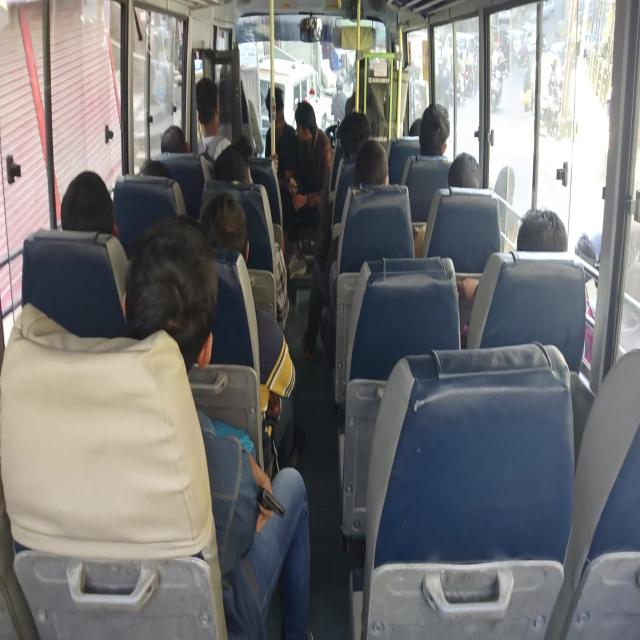person: (131, 232, 211, 334), (62, 172, 118, 238), (198, 204, 249, 262), (358, 146, 402, 212), (517, 211, 570, 265), (206, 151, 264, 184), (337, 117, 380, 153), (190, 78, 222, 124), (453, 149, 481, 196), (160, 118, 196, 154), (264, 89, 292, 135), (297, 102, 321, 144), (425, 108, 444, 156), (143, 160, 178, 182), (408, 116, 426, 138)
